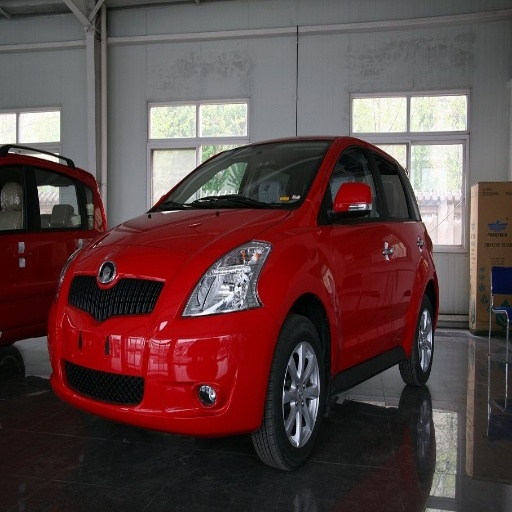front_bumper: (53, 242, 284, 431)
front_glass: (152, 143, 329, 210)
front_left_door: (321, 141, 392, 366)
